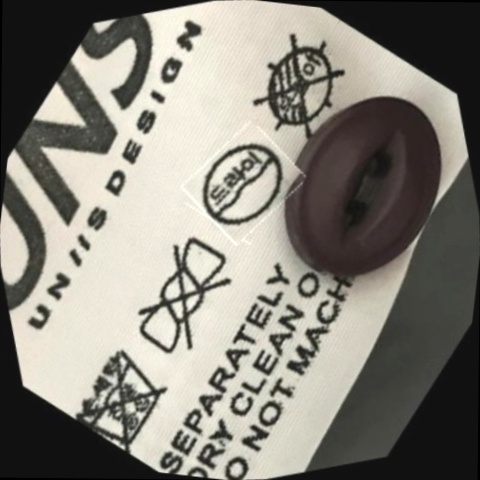DN_dry: (234, 21, 365, 153)
DN_wring: (111, 225, 258, 372)
dry_clean: (184, 124, 303, 245)
hand_wash: (60, 328, 186, 461)
